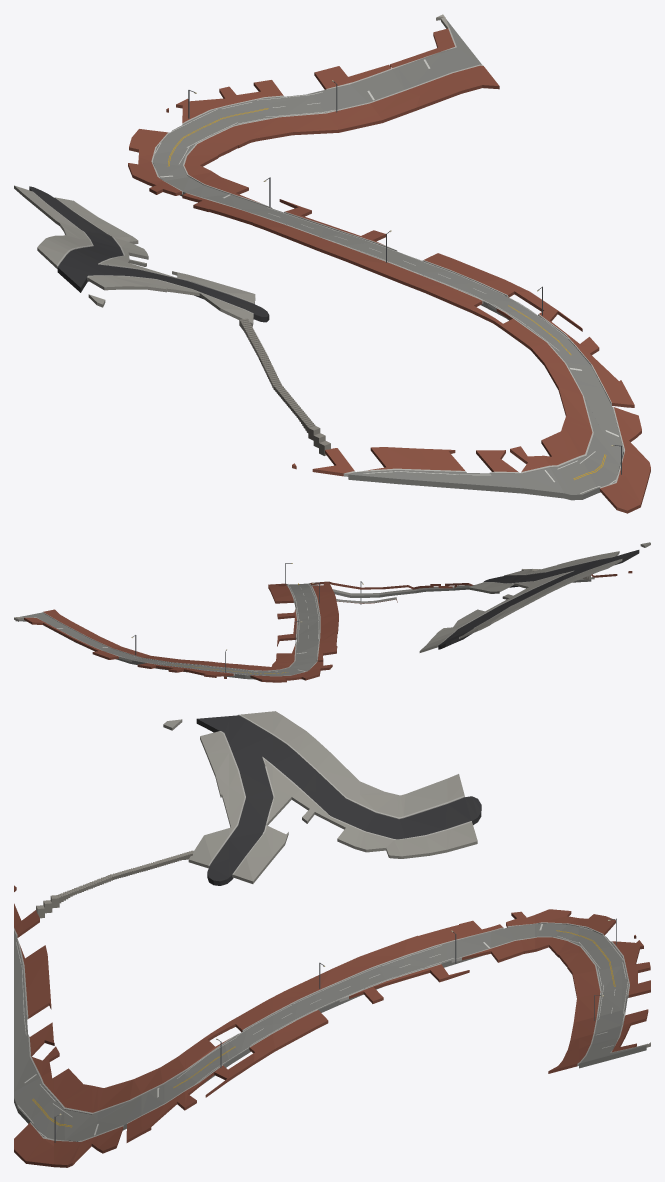
The picture shows the model from 3 angles, top to bottom: view 1: azimuth 30°, elevation 25°; view 2: azimuth 150°, elevation 25°; view 3: azimuth 270°, elevation 25°; orthographic projection. The views are drawn at different scales.
Size of the model in its own units: 147 by 62.34 by 146.
